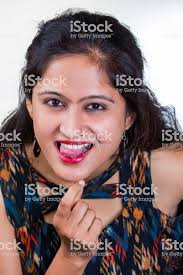indian_female: (17, 12, 144, 195)
